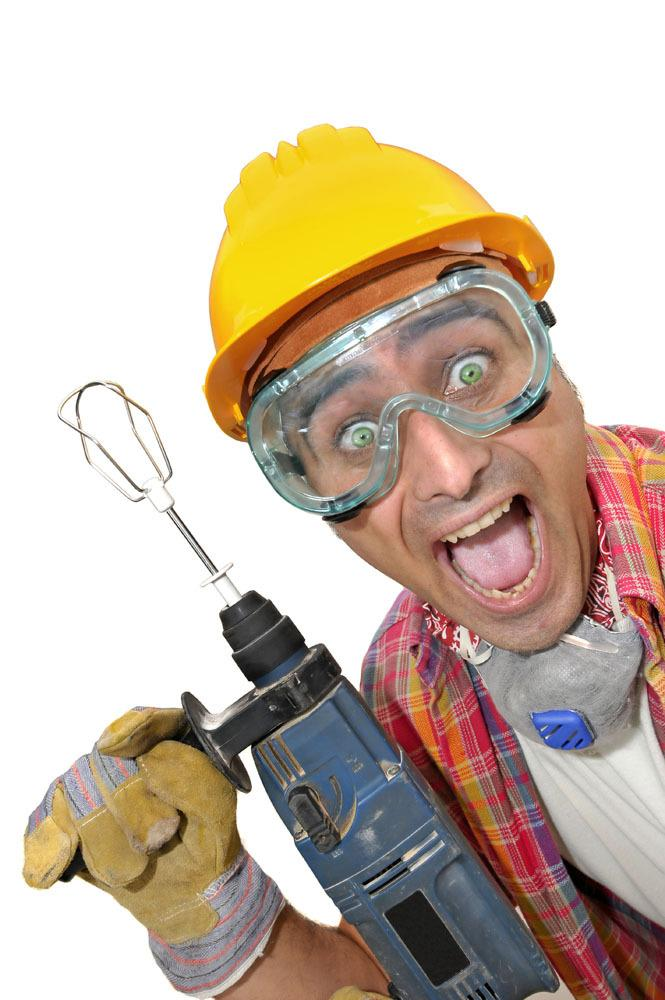helmet: (203, 121, 558, 451)
